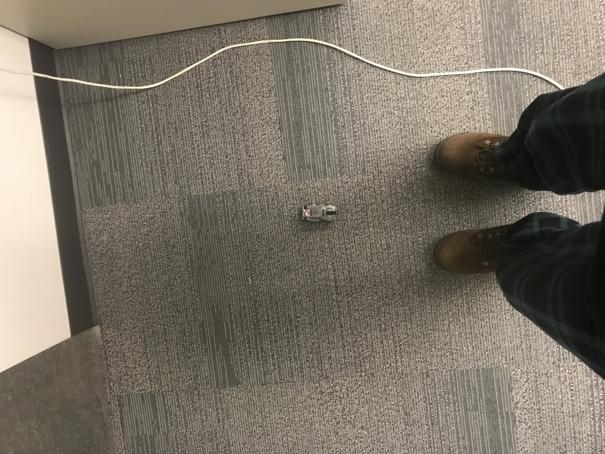Charger: (299, 203, 340, 225)
